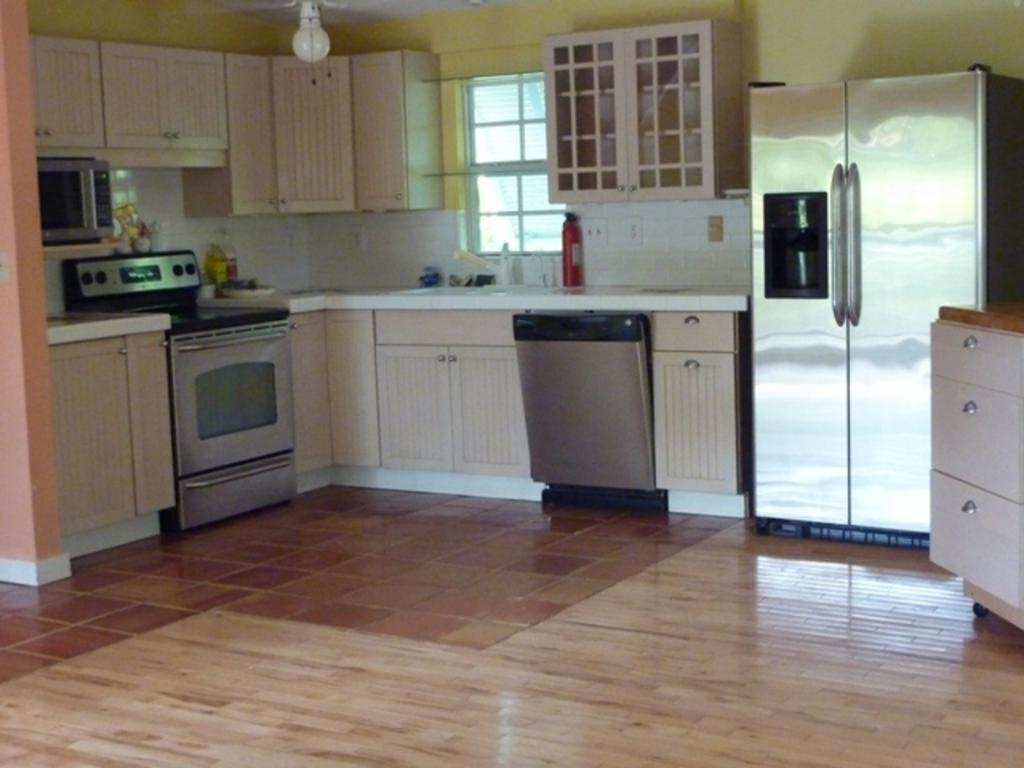cabinet_door: (49, 339, 132, 525), (626, 26, 714, 196), (274, 54, 354, 212), (548, 36, 625, 190), (655, 352, 735, 486), (450, 350, 524, 480), (377, 344, 452, 472), (934, 476, 1024, 582), (126, 328, 174, 502), (352, 58, 402, 212), (935, 379, 1020, 465), (103, 40, 169, 150), (232, 50, 274, 221), (34, 44, 100, 146), (163, 48, 232, 145), (936, 328, 1024, 378), (654, 314, 732, 346)
handle: (187, 447, 285, 492), (840, 162, 862, 328), (822, 172, 844, 322), (176, 332, 290, 354), (958, 386, 982, 421), (680, 354, 706, 379), (961, 496, 983, 525), (678, 309, 702, 335), (960, 328, 982, 354)
